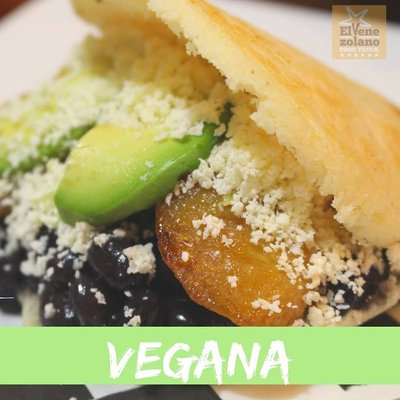curry: (55, 120, 222, 228)
